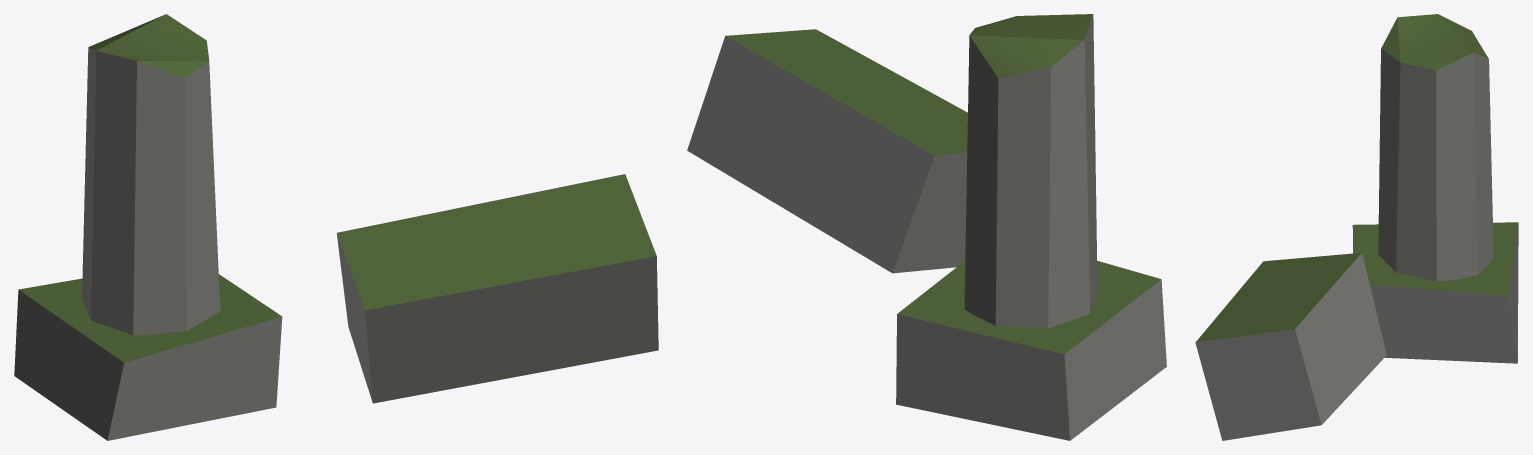
Rendered from ColumnBroken.fbx.
3 views of the same model, side by side, from view 1: azimuth 30°, elevation 25°; view 2: azimuth 150°, elevation 25°; view 3: azimuth 270°, elevation 25° (orthographic). The views are drawn at different scales.
Visible parts, largest first — view 1: ColumnBroken; view 2: ColumnBroken; view 3: ColumnBroken.
Part boxes in pixels (<box>): ColumnBroken: <box>14,14,658,440</box>; ColumnBroken: <box>687,14,1166,440</box>; ColumnBroken: <box>1195,14,1518,440</box>.
Bounding box in the file's own units: 1.97 × 1.36 × 1.34.
